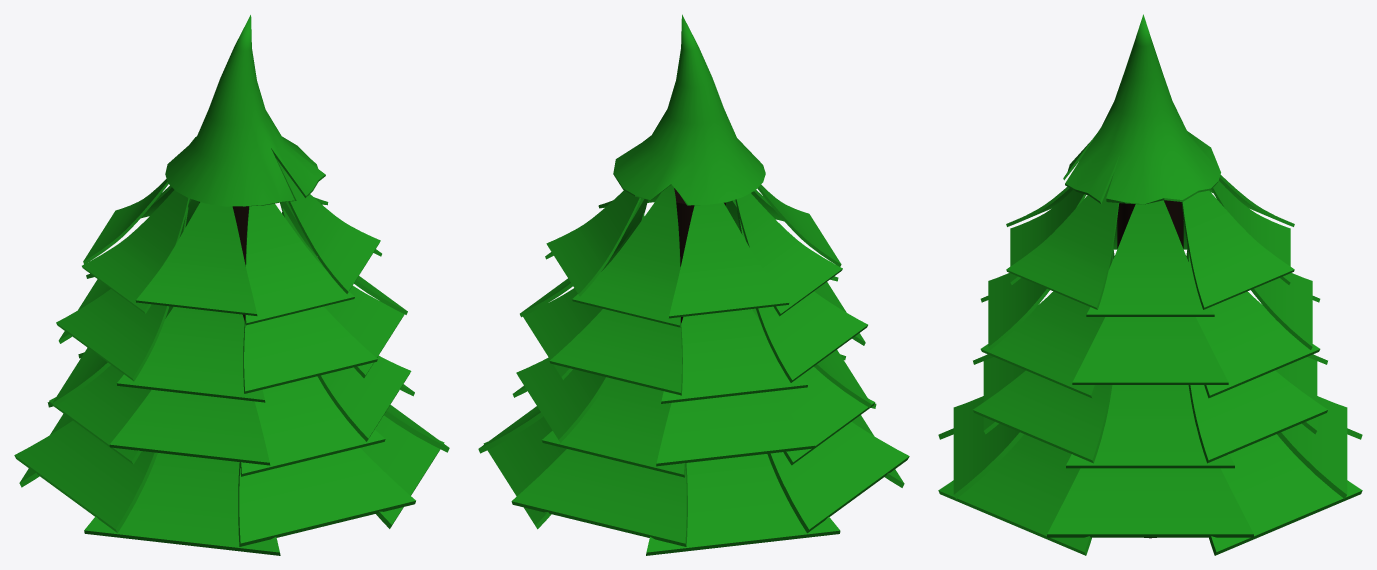
Rendered from arbol1 1.fbx.
3 views of the same model, side by side, from view 1: azimuth 30°, elevation 25°; view 2: azimuth 150°, elevation 25°; view 3: azimuth 270°, elevation 25° (orthographic). The views are drawn at different scales.
Parts seen in each view (by area): view 1: Box031; view 2: Box031; view 3: Box031.
Boxes of the visible parts, box(x1,y1,x2,y2) form: Box031: box(14, 15, 449, 555); Box031: box(478, 14, 909, 555); Box031: box(938, 14, 1362, 555).
Bounding box in the file's own units: 67.4 × 90.78 × 67.4.
